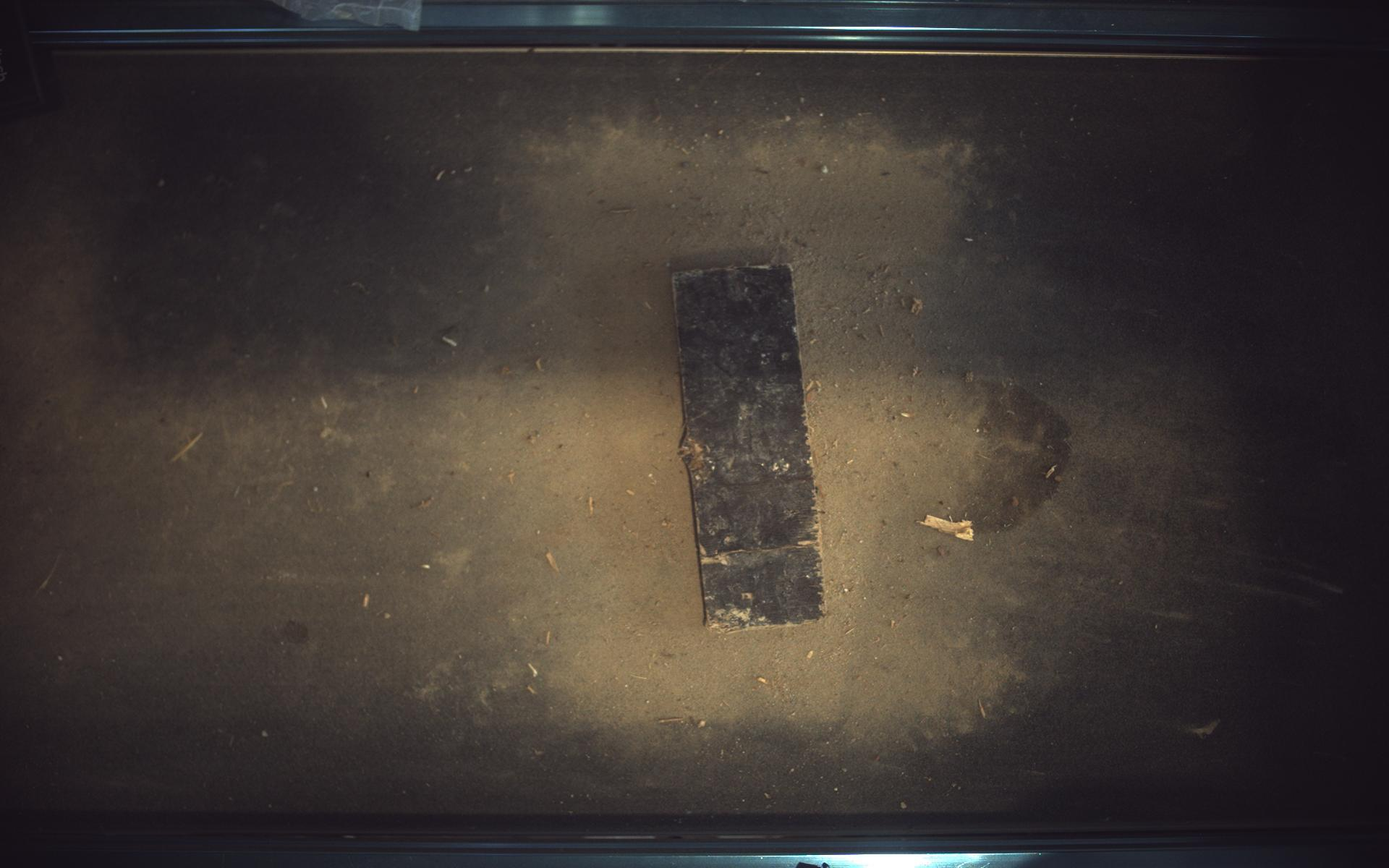wood: (674, 265, 824, 629)
